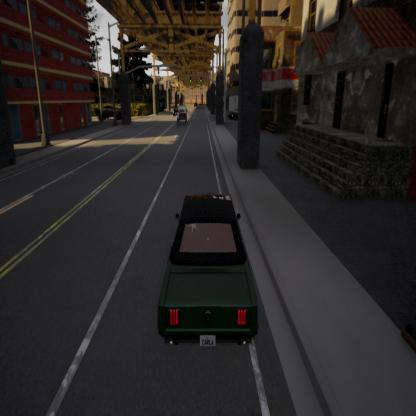Cars: (152, 187, 261, 356), (177, 106, 188, 125), (173, 104, 178, 116)
